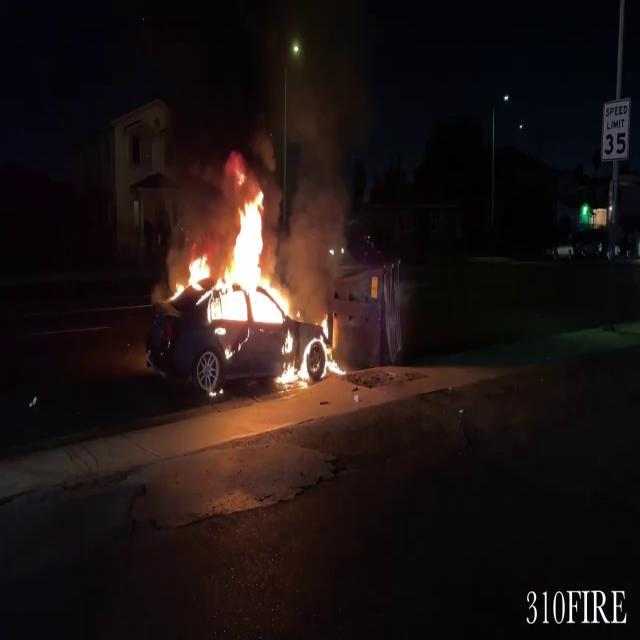Fire: (172, 160, 344, 390)
Smoke: (257, 67, 366, 305)
